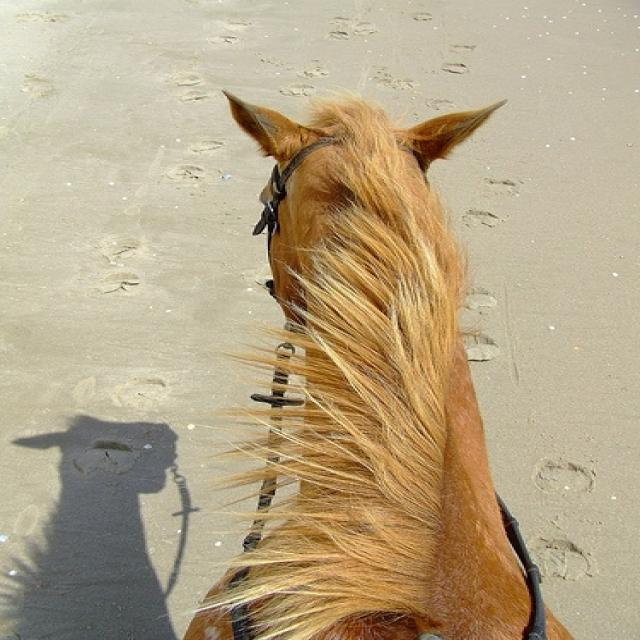horse: (174, 81, 584, 638)
